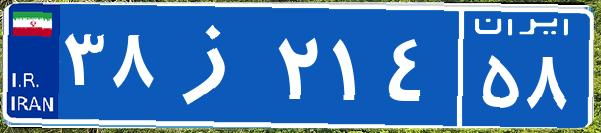1: (330, 28, 385, 110)
2: (273, 28, 330, 110)
3: (57, 26, 110, 107)
4: (385, 28, 445, 110)
5: (475, 38, 525, 113)
8: (110, 28, 158, 105), (525, 38, 570, 115)
ز: (158, 15, 273, 115)
